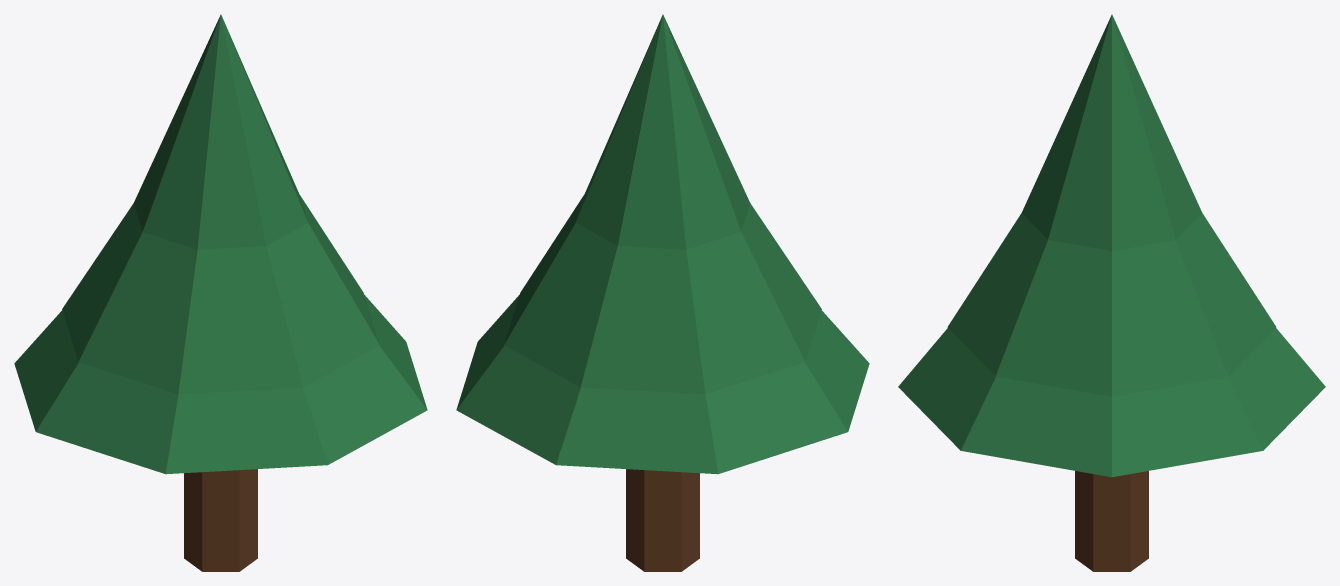
The model's file is pine_3.glb.
The picture shows the model from 3 angles, left to right: view 1: azimuth 30°, elevation 25°; view 2: azimuth 150°, elevation 25°; view 3: azimuth 270°, elevation 25°; orthographic projection.
Parts seen in each view (by area): view 1: Cone; view 2: Cone; view 3: Cone.
Part boxes in pixels (bbox=[...]): Cone: bbox=[14, 14, 427, 571]; Cone: bbox=[456, 14, 869, 571]; Cone: bbox=[898, 14, 1325, 571].
Bounding box in the file's own units: 1.25 × 1.75 × 1.25.
